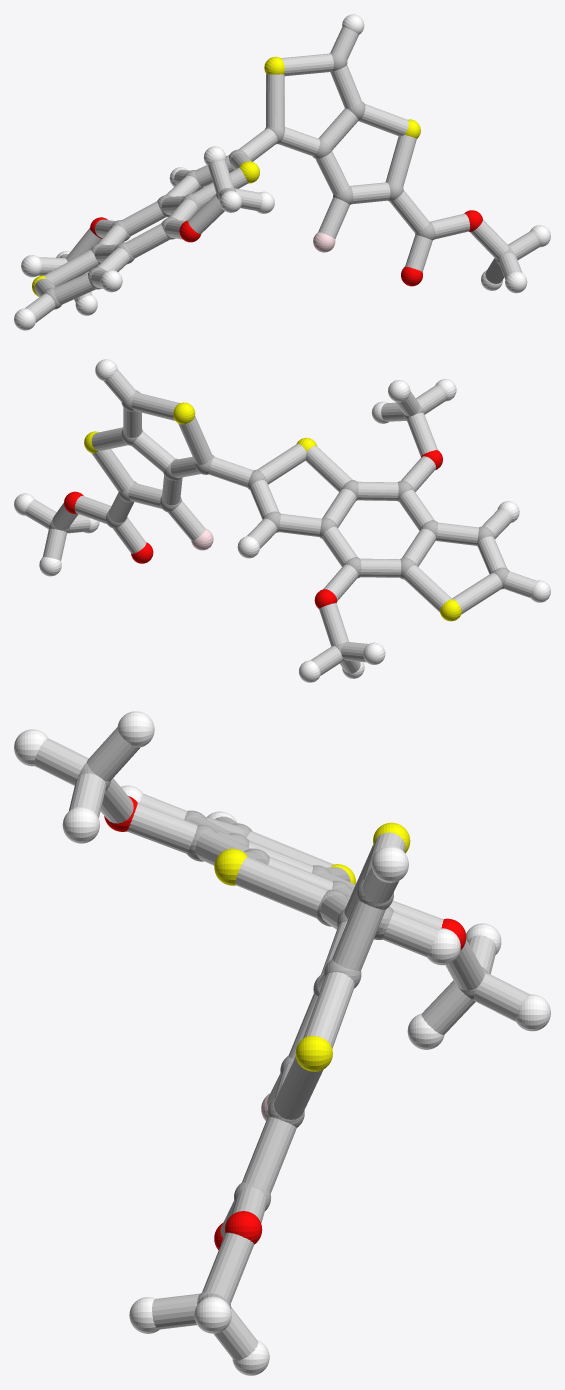
Rendered from color.glb.
3 views of the same model, one above another, from view 1: azimuth 30°, elevation 25°; view 2: azimuth 150°, elevation 25°; view 3: azimuth 270°, elevation 25° (orthographic). The views are drawn at different scales.
Parts seen in each view (by area): view 1: grp15205, grp8689, grp1, grp13395, grp7241; view 2: grp15205, grp8689, grp1, grp7241, grp13395; view 3: grp15205, grp8689, grp1, grp7241, grp13395.
Boxes of the visible parts, x1=… form: grp15205: x1=25, y1=27, x2=539, y2=322; grp8689: x1=14, y1=14, x2=550, y2=330; grp1: x1=43, y1=52, x2=515, y2=309; grp13395: x1=90, y1=210, x2=482, y2=286; grp7241: x1=32, y1=56, x2=420, y2=296; grp15205: x1=25, y1=369, x2=536, y2=675; grp8689: x1=14, y1=359, x2=550, y2=682; grp1: x1=49, y1=390, x2=509, y2=661; grp7241: x1=84, y1=402, x2=461, y2=621; grp13395: x1=64, y1=450, x2=442, y2=608; grp15205: x1=34, y1=727, x2=529, y2=1360; grp8689: x1=14, y1=711, x2=550, y2=1375; grp1: x1=78, y1=762, x2=488, y2=1309; grp7241: x1=214, y1=822, x2=410, y2=1071; grp13395: x1=104, y1=796, x2=466, y2=1249.
Bounding box in the file's own units: 16.51 × 7.94 × 8.64.
